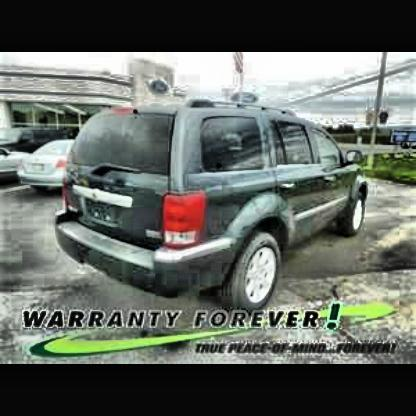Chrysler Aspen SUV 2009: (49, 103, 370, 305)
